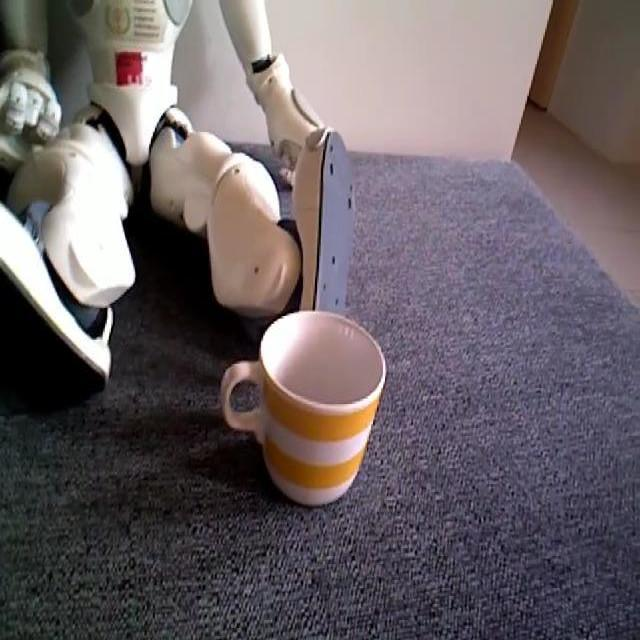cup: (223, 300, 394, 517)
